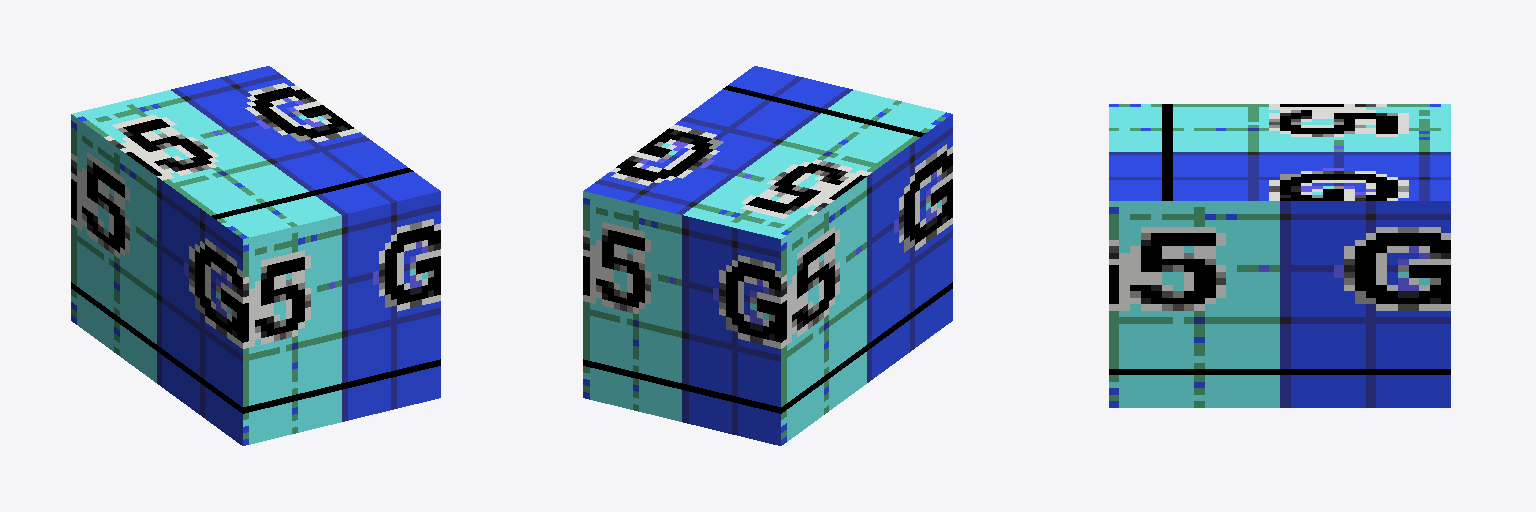
3 views of the same model, side by side, from view 1: azimuth 30°, elevation 25°; view 2: azimuth 150°, elevation 25°; view 3: azimuth 270°, elevation 25° (orthographic).
Visible parts, largest first — view 1: cube; view 2: cube; view 3: cube.
Part boxes in pixels (x1,y1,x2,y2): cube: (71, 66, 440, 445); cube: (583, 66, 952, 445); cube: (1109, 104, 1450, 407).
Size of the model in its own units: 2 by 2 by 3.
1 materials, 1 textured.